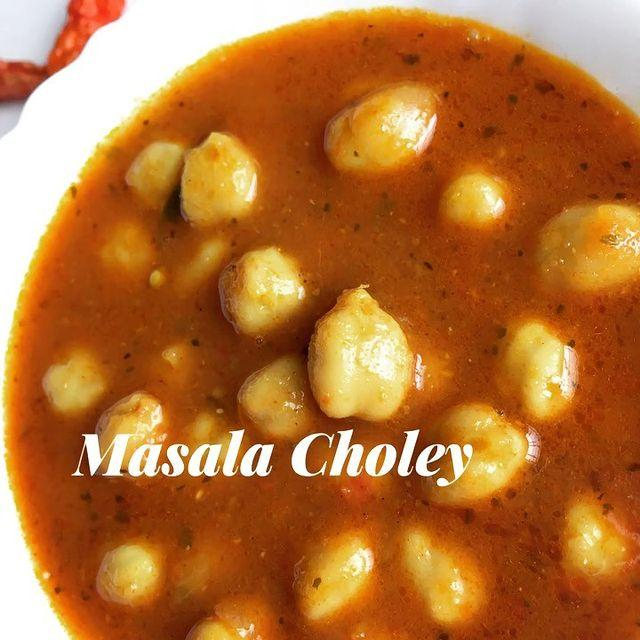Chole: (80, 72, 640, 624)
